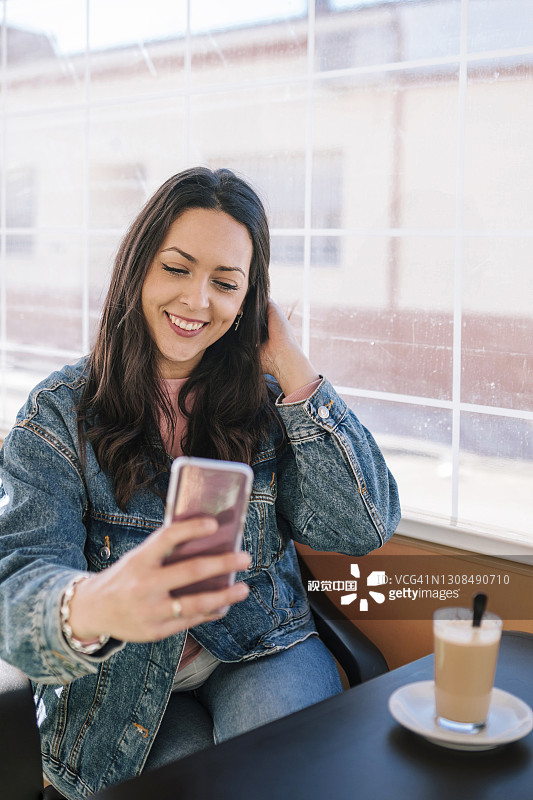taking photos: (69, 469, 274, 659)
